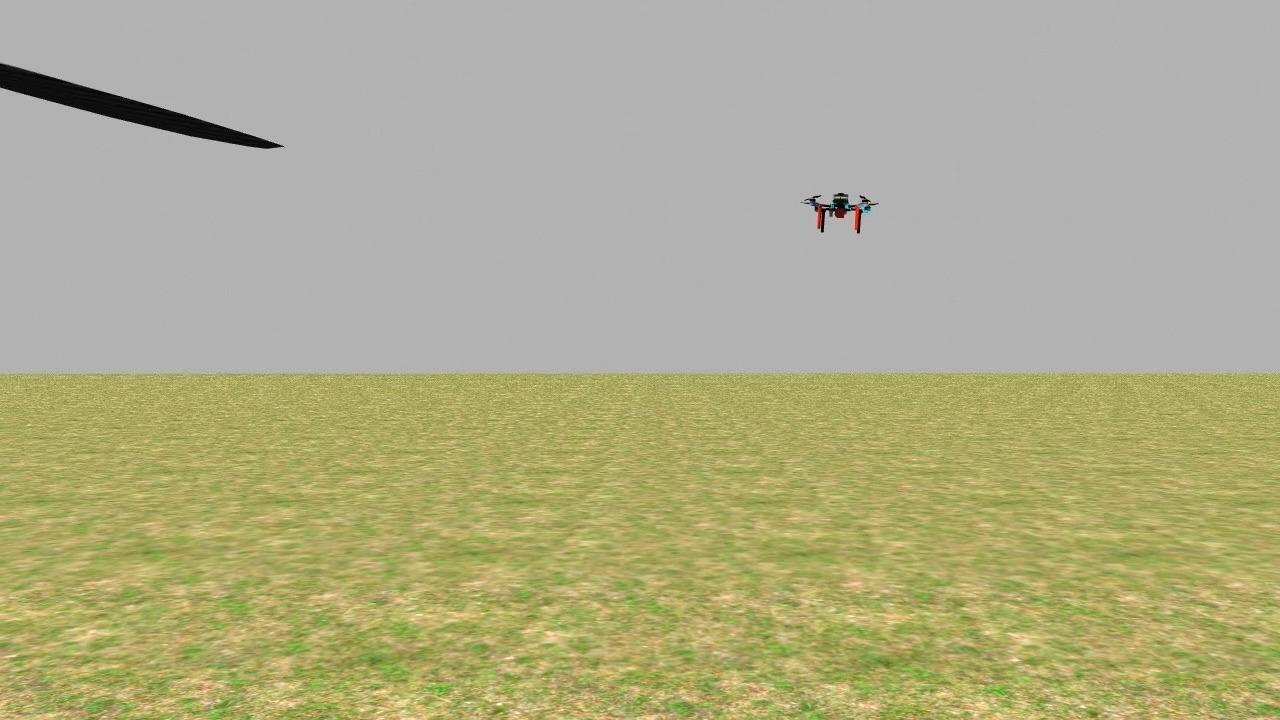UAV: (800, 184, 883, 234)
